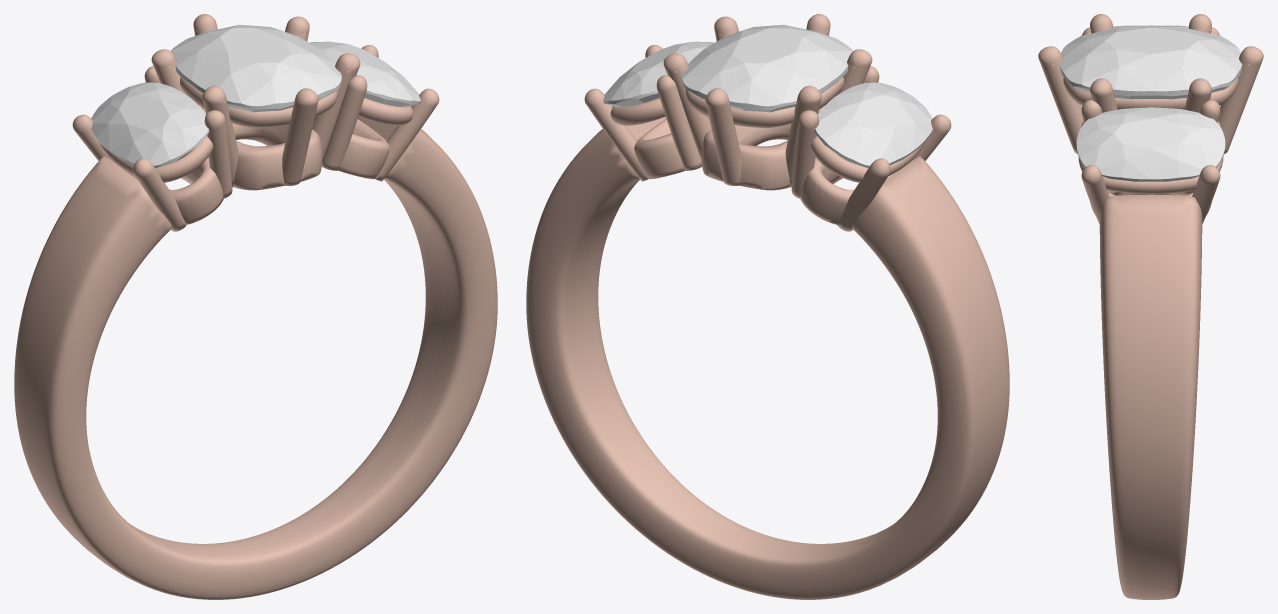
The model's file is diamond-cushion-rosegold-6prong-straighttaperedband-3stone.glb.
3 renders of one model, left to right at view 1: azimuth 30°, elevation 25°; view 2: azimuth 150°, elevation 25°; view 3: azimuth 270°, elevation 25°, orthographic.
Parts seen in each view (by area): view 1: metal.001, stone.002, side.004, side.005; view 2: metal.001, stone.002, side.004, side.005; view 3: metal.001, stone.002, side.005.
Boxes of the visible parts, x1,y1,x2,y2 form: metal.001: [14, 14, 497, 599]; stone.002: [171, 24, 341, 128]; side.004: [91, 82, 209, 167]; side.005: [309, 41, 420, 106]; metal.001: [526, 14, 1009, 599]; stone.002: [682, 24, 852, 128]; side.004: [814, 82, 932, 167]; side.005: [603, 41, 714, 106]; metal.001: [1038, 14, 1263, 599]; stone.002: [1059, 27, 1242, 99]; side.005: [1076, 107, 1225, 181].
Size of the model in its own units: 20.1 by 23.04 by 8.8.
